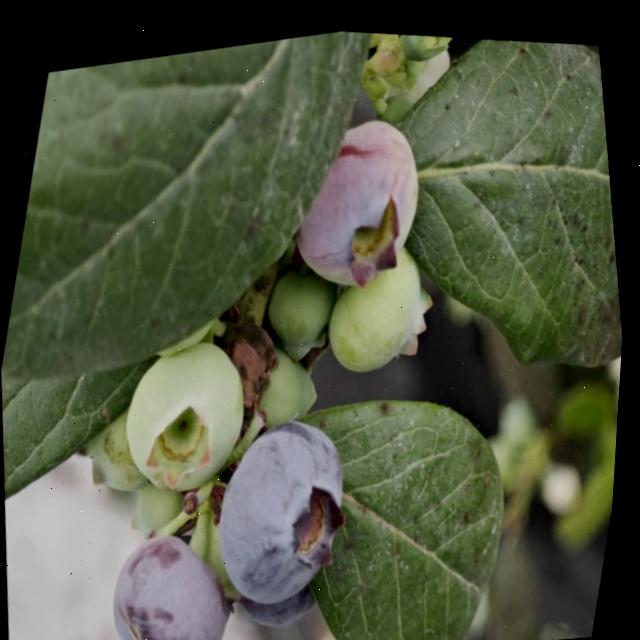Semi-RipeBlueBerry: (182, 374, 402, 619), (86, 489, 273, 640)
UnripeBlueBerry: (262, 84, 468, 309), (99, 303, 291, 506), (296, 220, 464, 395)
